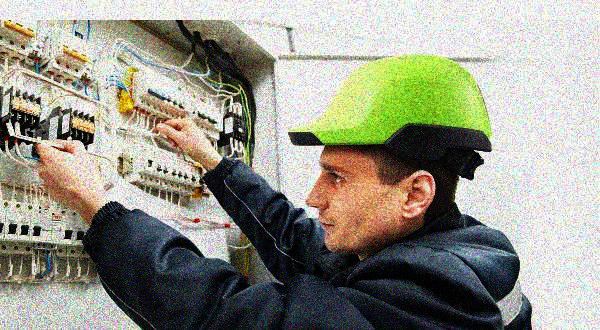helmet: (282, 55, 491, 256)
